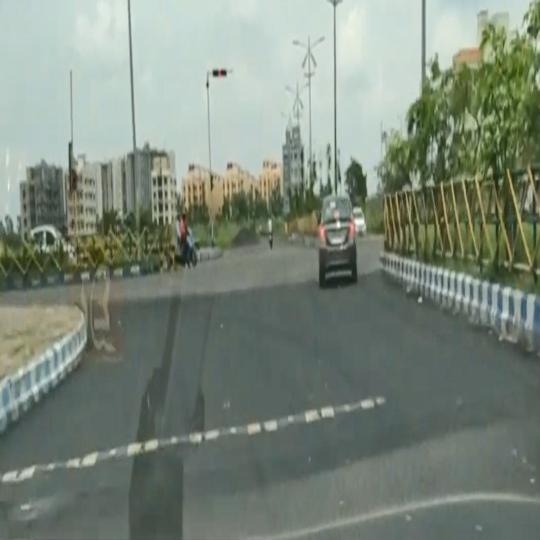Speed Bump: (0, 396, 388, 483)
